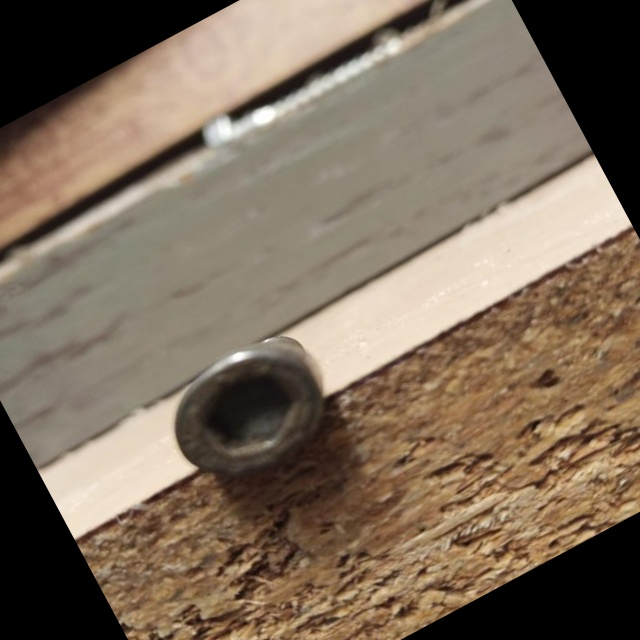allen: (152, 324, 351, 505)
